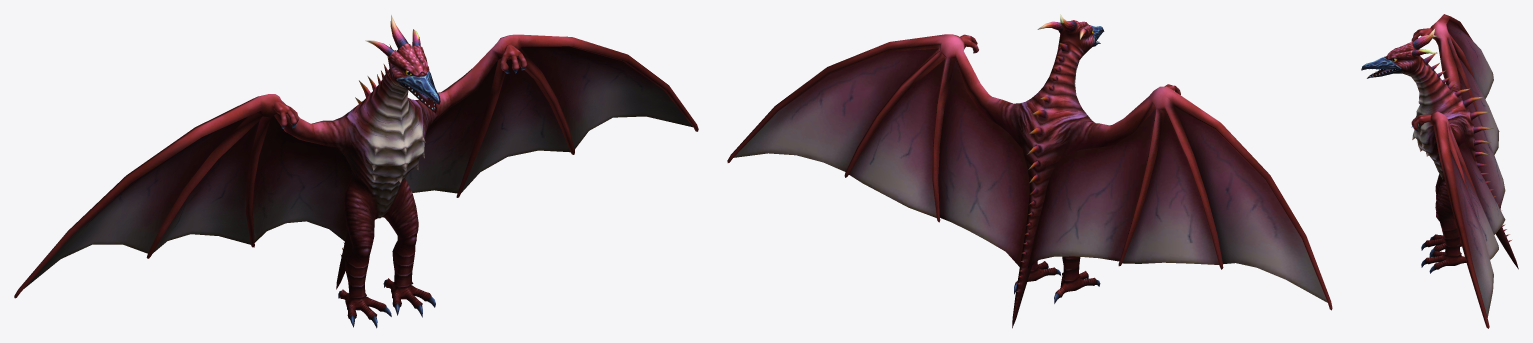
The model's file is heisei_fire_rodan_1993.glb.
3 renders of one model, left to right at view 1: azimuth 30°, elevation 25°; view 2: azimuth 150°, elevation 25°; view 3: azimuth 270°, elevation 25°, orthographic. The views are drawn at different scales.
Visible parts, largest first — view 1: Object_2; view 2: Object_2; view 3: Object_2.
Part boxes in pixels (left/top/right/bottom): Object_2: left=14, top=15, right=698, bottom=328; Object_2: left=727, top=14, right=1332, bottom=328; Object_2: left=1361, top=14, right=1518, bottom=328.
Size of the model in its own units: 1.66 by 0.7336 by 0.4339.
Materials: 1 (1 with a texture image).
